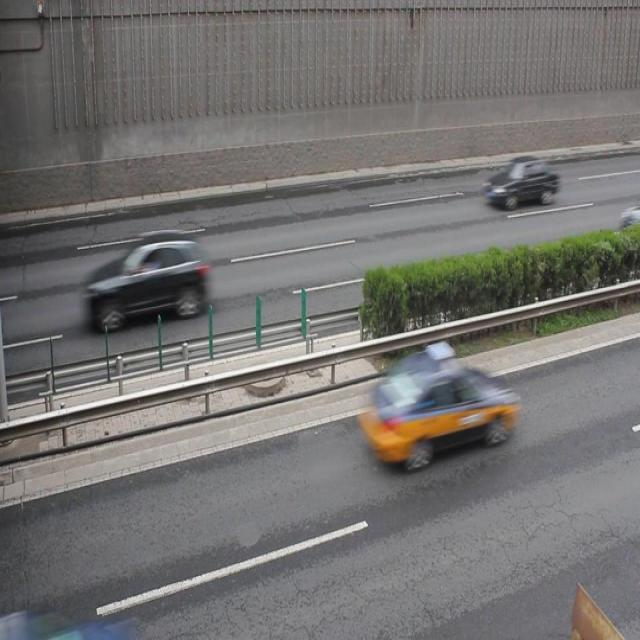car: (362, 344, 514, 463), (82, 232, 207, 326), (483, 154, 557, 207)
